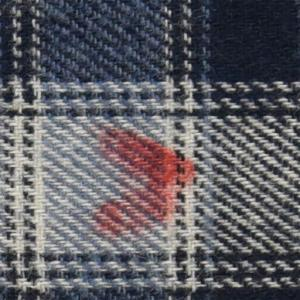Stain: (90, 120, 202, 244)
